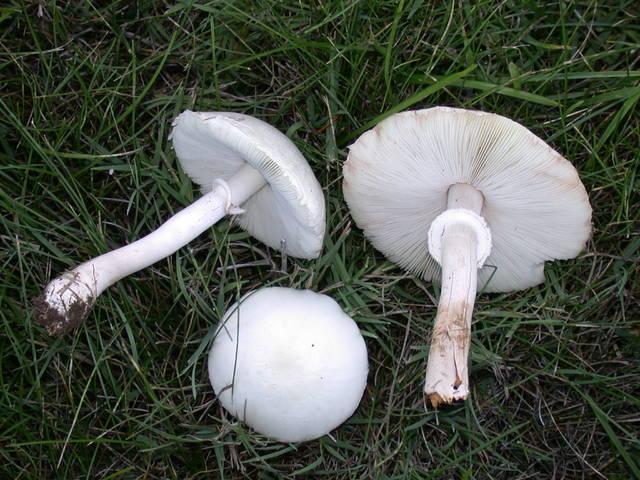poisonous_mushroom: (340, 104, 593, 407), (34, 107, 326, 337), (206, 285, 369, 443)
